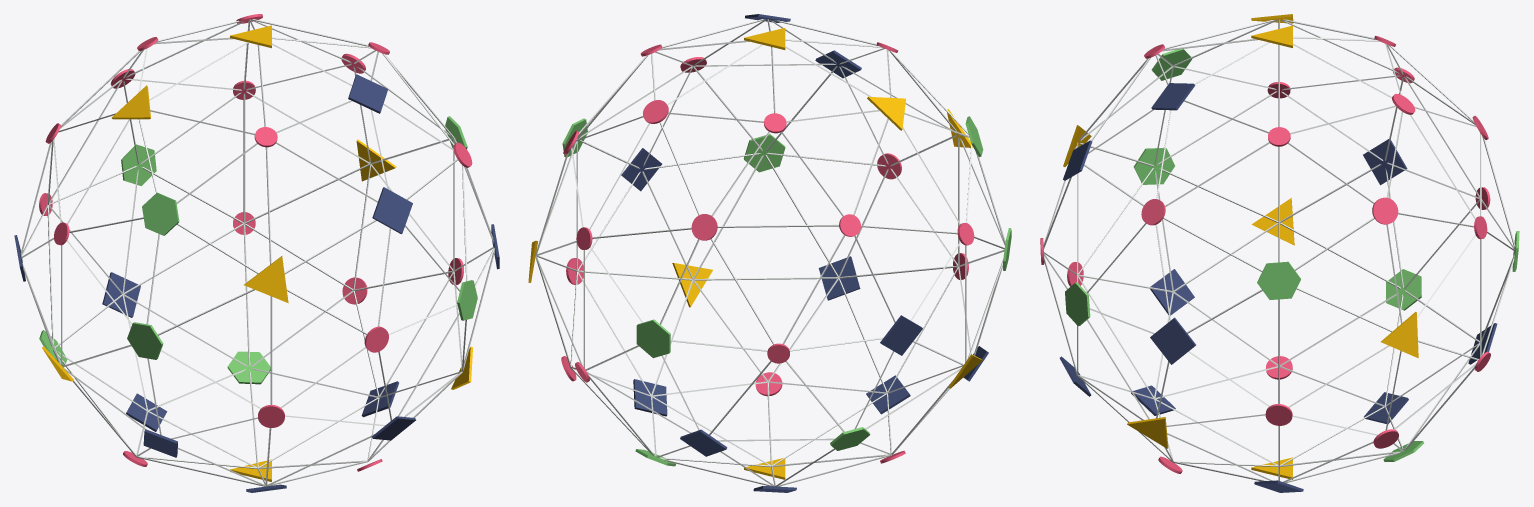
File: helix-animation-test3.glb
3 renders of one model, left to right at view 1: azimuth 30°, elevation 25°; view 2: azimuth 150°, elevation 25°; view 3: azimuth 270°, elevation 25°, orthographic.
Visible parts, largest first — view 1: wireisosphereV4.001; view 2: wireisosphereV4.001; view 3: wireisosphereV4.001.
Part boxes in pixels (box(x1,y1,x2,y2)): wireisosphereV4.001: box(14, 14, 499, 492); wireisosphereV4.001: box(528, 14, 1011, 492); wireisosphereV4.001: box(1040, 14, 1519, 492).
Bounding box in the file's own units: 3.43 × 3.46 × 3.46.
